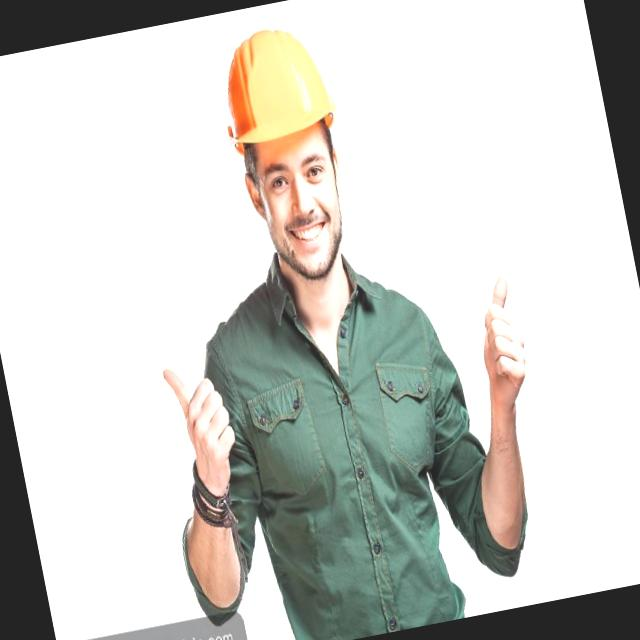helmet: (210, 22, 340, 150)
no-vest: (219, 247, 486, 640)
